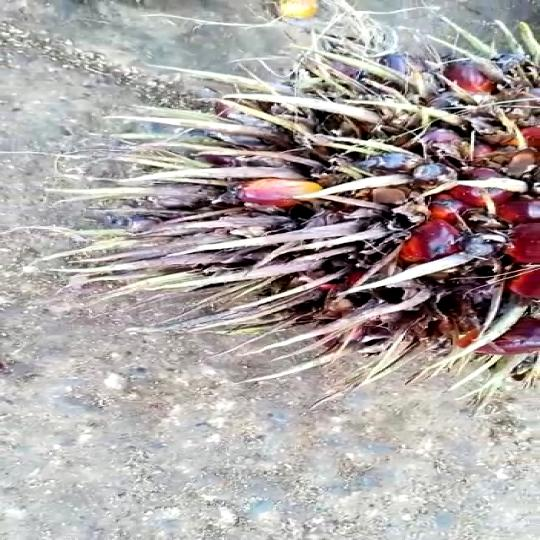masak: (129, 14, 540, 394)
